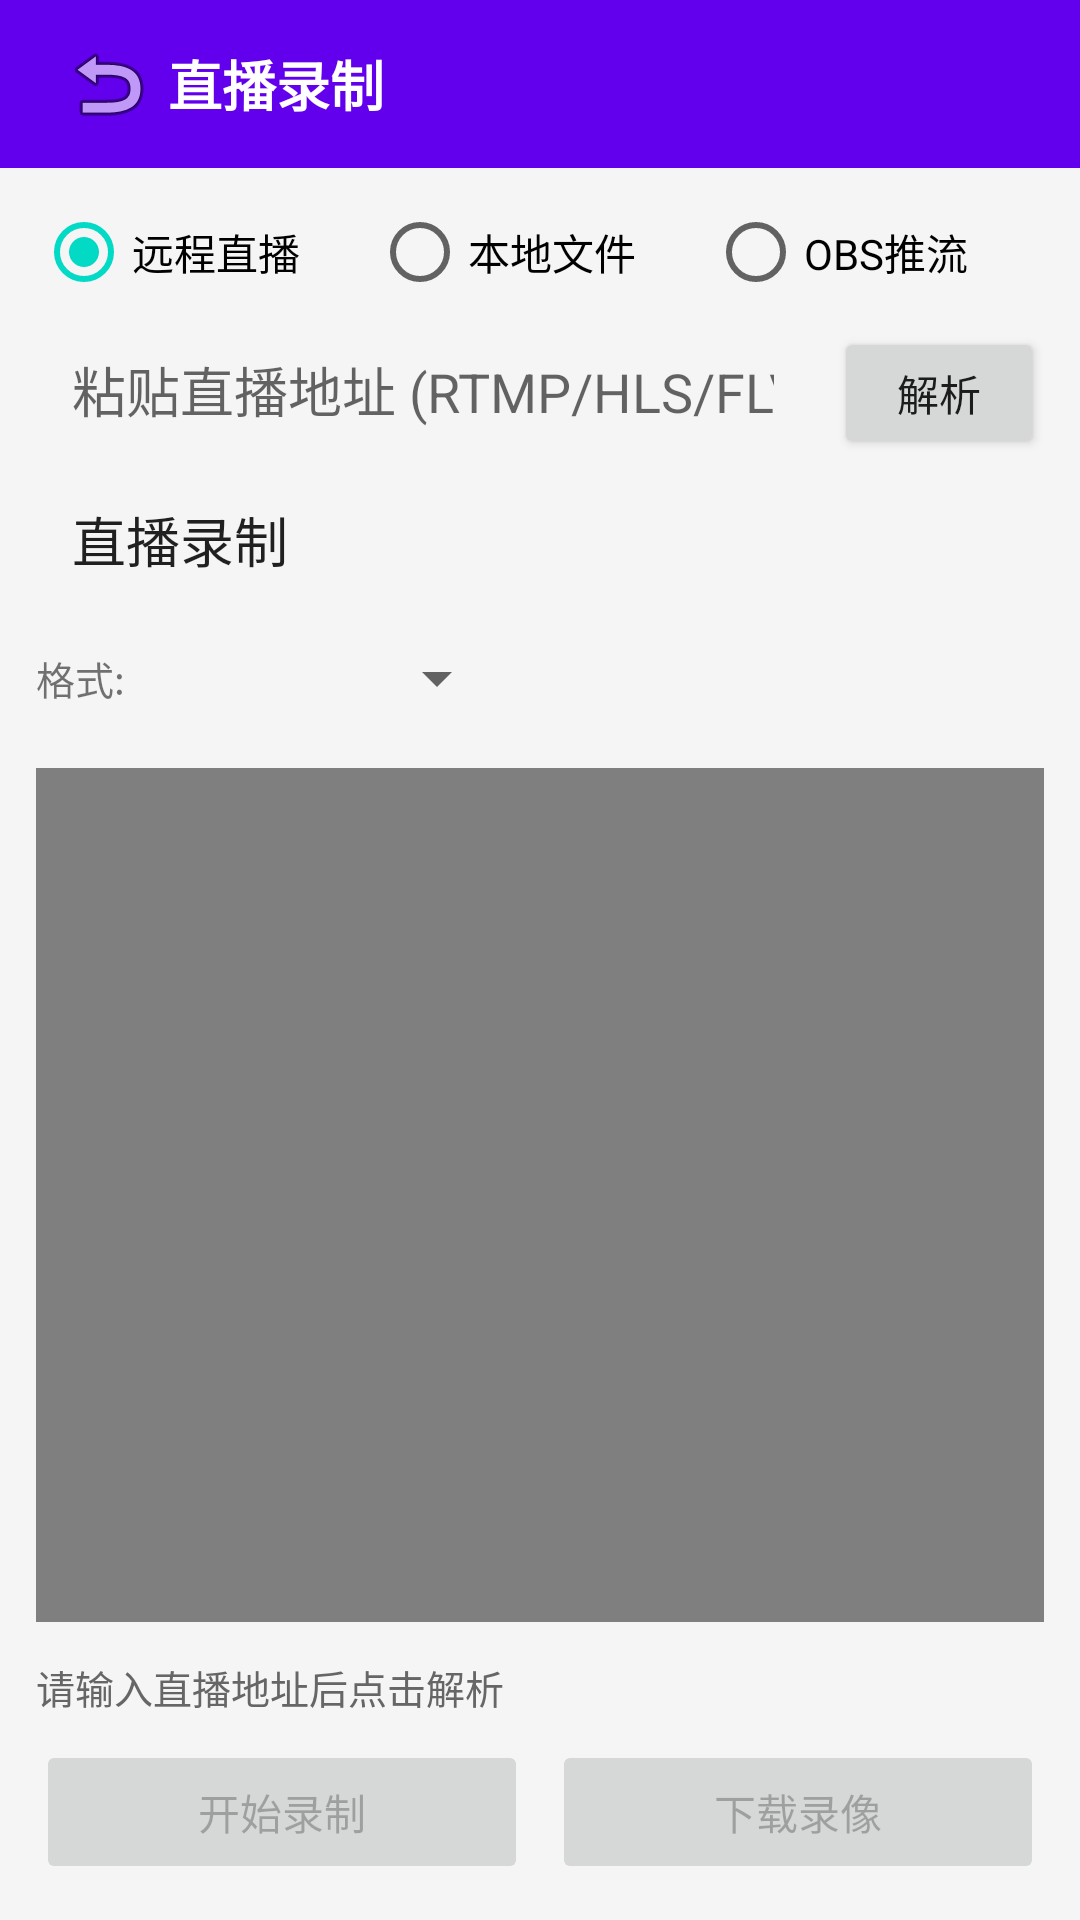

Icons on this 1080x1920 Android screen, each with its box as [left=x1, top=y1, right=x2, bottom=y2]:
revert: [left=75, top=53, right=144, bottom=116]
